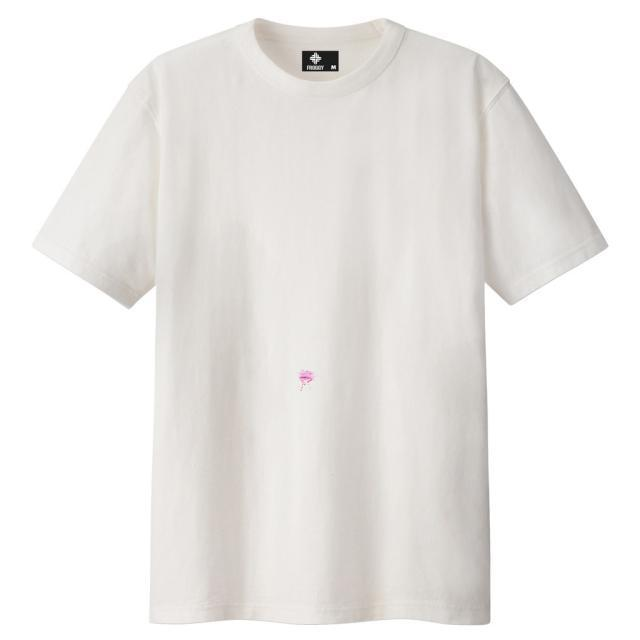stain: (293, 365, 320, 396)
